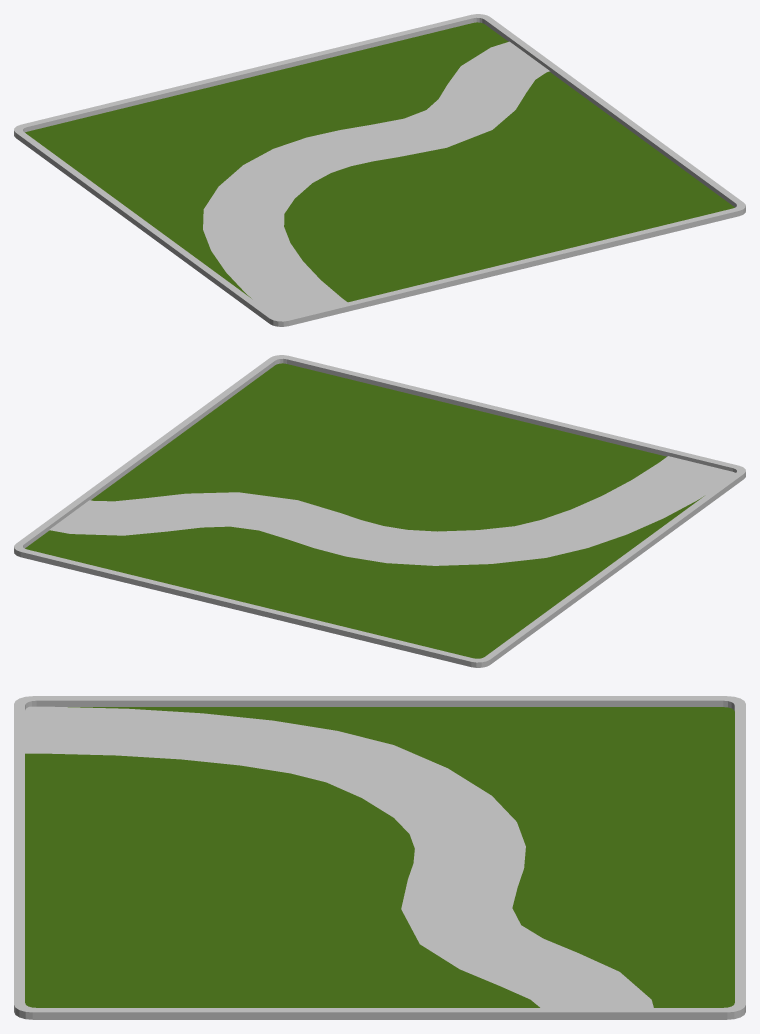
3 renders of one model, top to bottom at view 1: azimuth 30°, elevation 25°; view 2: azimuth 150°, elevation 25°; view 3: azimuth 270°, elevation 25°, orthographic. The views are drawn at different scales.
Parts seen in each view (by area): view 1: Plane.047, BezierCurve; view 2: Plane.047, BezierCurve; view 3: Plane.047, BezierCurve.
Boxes of the visible parts, x1,y1,x2,y2 form: Plane.047: (14,14,745,326); BezierCurve: (203,41,549,317); Plane.047: (14,355,745,667); BezierCurve: (49,456,735,565); Plane.047: (14,696,745,1019); BezierCurve: (25,706,653,1007).
Size of the model in its own units: 4265 by 4172 by 46.45.
